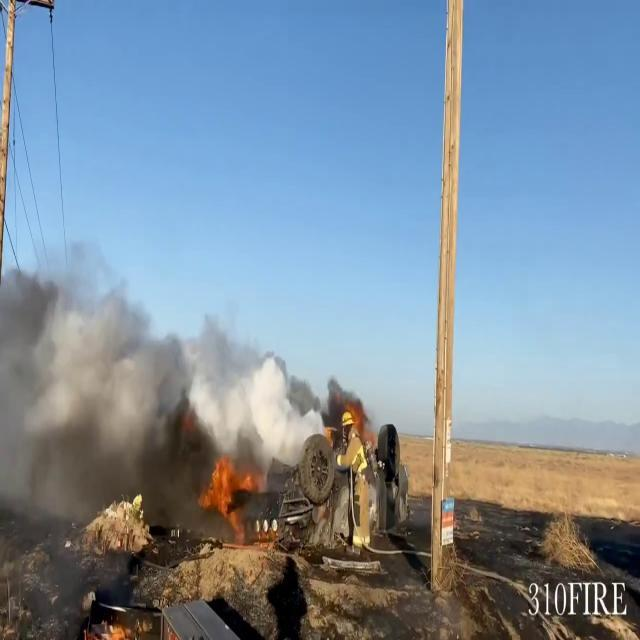Fire: (200, 449, 264, 522)
Smoke: (0, 268, 314, 520)
